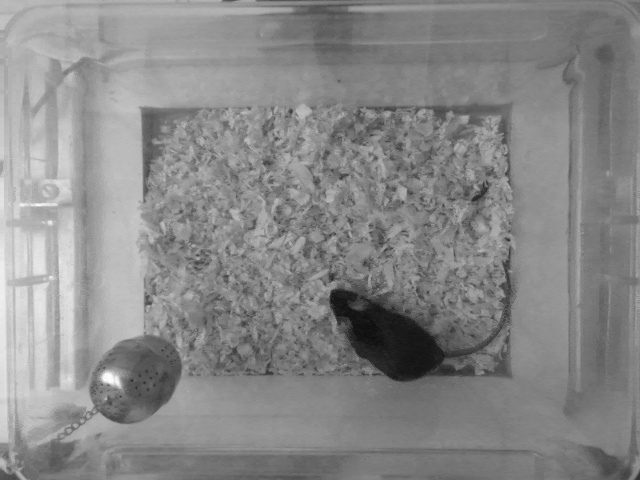mice: (323, 257, 513, 379)
